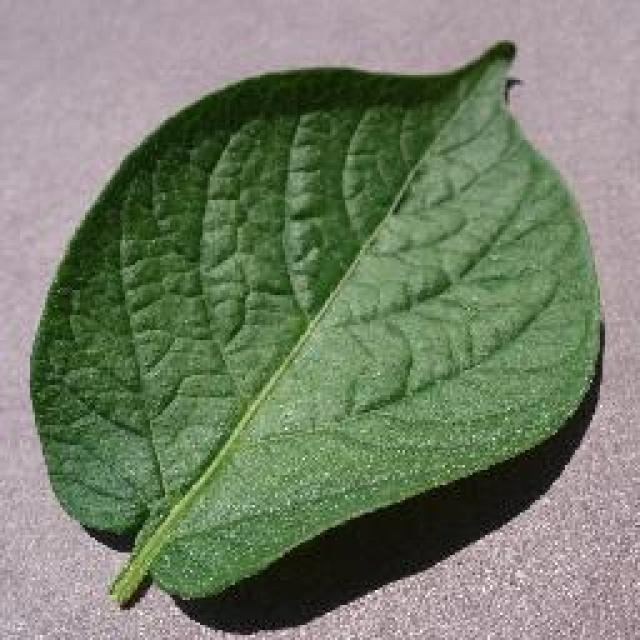Potato___healthy: (29, 40, 602, 606)
